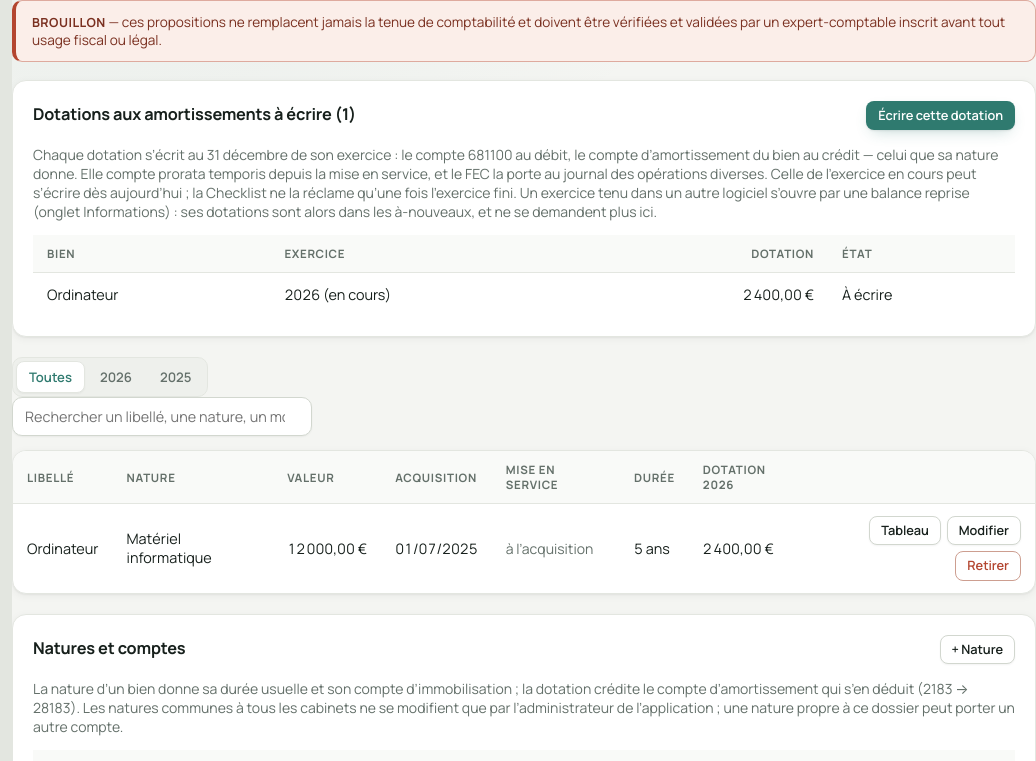
Test case: ImmobilisationsTab — le tableau d’amortissement › déplie chaque exercice, du premier au reliquat, avec l’état de son écriture
This screenshot has width=1036, height=761.
Click the button "Tableau": (905, 531) [869,516,941,545]
(page scrolled)
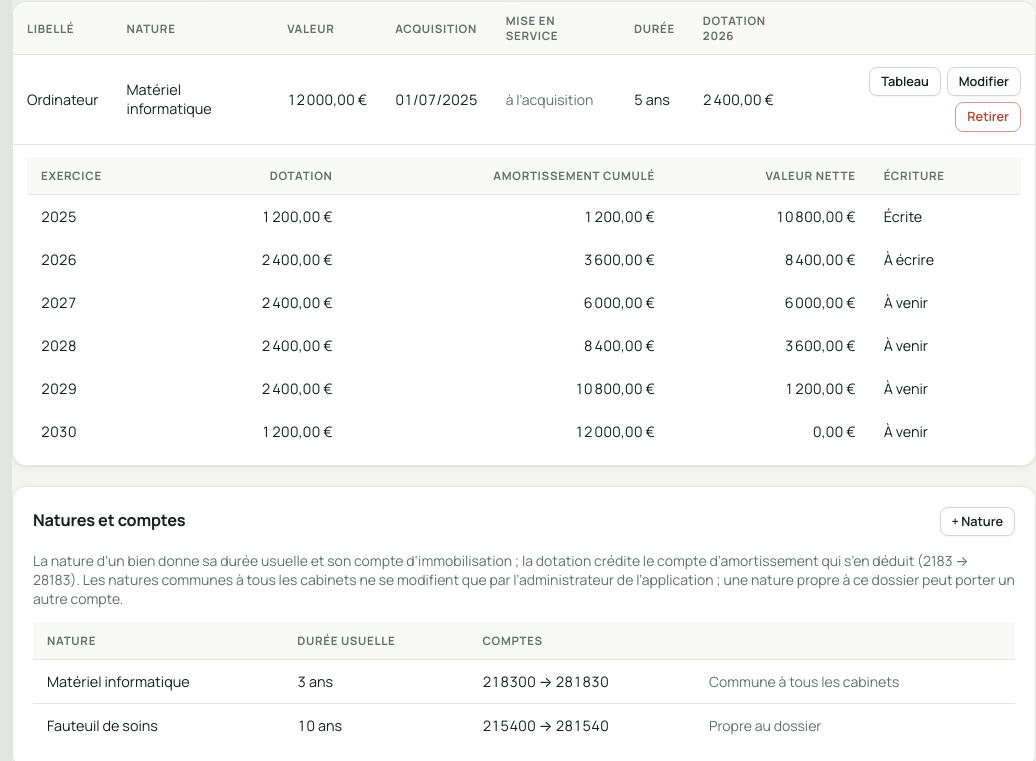
Expected: the text "Écrite" is shown, [870,194,1021,238]
Expected: the text "À écrire" is shown, [870,238,1021,281]
Expected: the text "À venir" in the row of "2027" is shown, [884,293,928,312]
